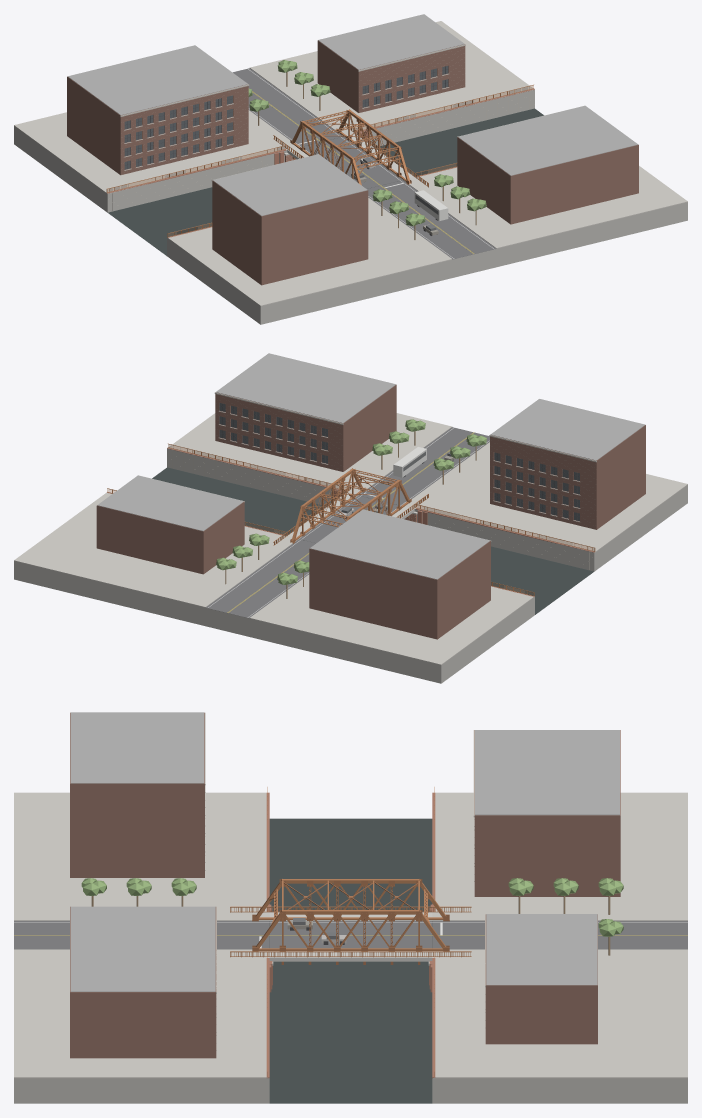
The model's file is clay-steel-truss-road-bridge-clay-v002.glb.
3 renders of one model, top to bottom at view 1: azimuth 30°, elevation 25°; view 2: azimuth 150°, elevation 25°; view 3: azimuth 270°, elevation 25°, orthographic. The views are drawn at different scales.
Visible parts, largest first — view 1: CLAY_WALL, CLAY_PAVING, CLAY_ROOF, CLAY_QUAY, CLAY_ASPHALT, CLAY_WATER, CLAY_STEEL, CLAY_DARK, CLAY_GLASS, CLAY_PLANTING, CLAY_STONE, CLAY_BRICK (+3 smaller); view 2: CLAY_WALL, CLAY_PAVING, CLAY_ROOF, CLAY_QUAY, CLAY_WATER, CLAY_ASPHALT, CLAY_STEEL, CLAY_DARK, CLAY_GLASS, CLAY_PLANTING, CLAY_STONE, CLAY_BRICK (+3 smaller); view 3: CLAY_PAVING, CLAY_ROOF, CLAY_WALL, CLAY_WATER, CLAY_QUAY, CLAY_ASPHALT, CLAY_STEEL, CLAY_PLANTING, CLAY_CONCRETE, CLAY_BRICK, CLAY_GUSSET, CLAY_STEEL2 (+2 smaller).
Part boxes in pixels (box(x1,y1,x2,y2)): CLAY_WALL: box(67, 40, 638, 285); CLAY_PAVING: box(14, 21, 687, 306); CLAY_ROOF: box(68, 14, 638, 215); CLAY_QUAY: box(14, 90, 687, 324); CLAY_ASPHALT: box(233, 68, 495, 259); CLAY_WATER: box(108, 108, 543, 255); CLAY_STEEL: box(106, 84, 533, 237); CLAY_DARK: box(124, 66, 448, 235); CLAY_GLASS: box(124, 66, 448, 169); CLAY_PLANTING: box(248, 60, 486, 226); CLAY_STONE: box(120, 44, 584, 181); CLAY_BRICK: box(107, 88, 534, 237); CLAY_WALL: box(96, 384, 645, 639); CLAY_PAVING: box(14, 413, 687, 665); CLAY_ROOF: box(97, 353, 645, 579); CLAY_QUAY: box(14, 449, 687, 683); CLAY_WATER: box(152, 467, 593, 614); CLAY_ASPHALT: box(205, 427, 489, 618); CLAY_STEEL: box(107, 443, 595, 596); CLAY_DARK: box(219, 403, 579, 521); CLAY_GLASS: box(219, 403, 579, 521); CLAY_PLANTING: box(216, 419, 486, 584); CLAY_STONE: box(144, 392, 596, 541); CLAY_BRICK: box(107, 447, 594, 596); CLAY_PAVING: box(14, 792, 687, 1078); CLAY_ROOF: box(70, 712, 619, 991); CLAY_WALL: box(70, 712, 620, 1058); CLAY_WATER: box(269, 818, 432, 1103); CLAY_QUAY: box(14, 1078, 687, 1103); CLAY_ASPHALT: box(14, 921, 687, 949); CLAY_STEEL: box(230, 787, 471, 1076); CLAY_PLANTING: box(81, 878, 623, 936); CLAY_CONCRETE: box(269, 912, 432, 965); CLAY_BRICK: box(266, 792, 435, 1078); CLAY_GUSSET: box(252, 879, 449, 951); CLAY_STEEL2: box(252, 882, 449, 964).
Bounding box in the file's own units: 120 × 23.75 × 120.
